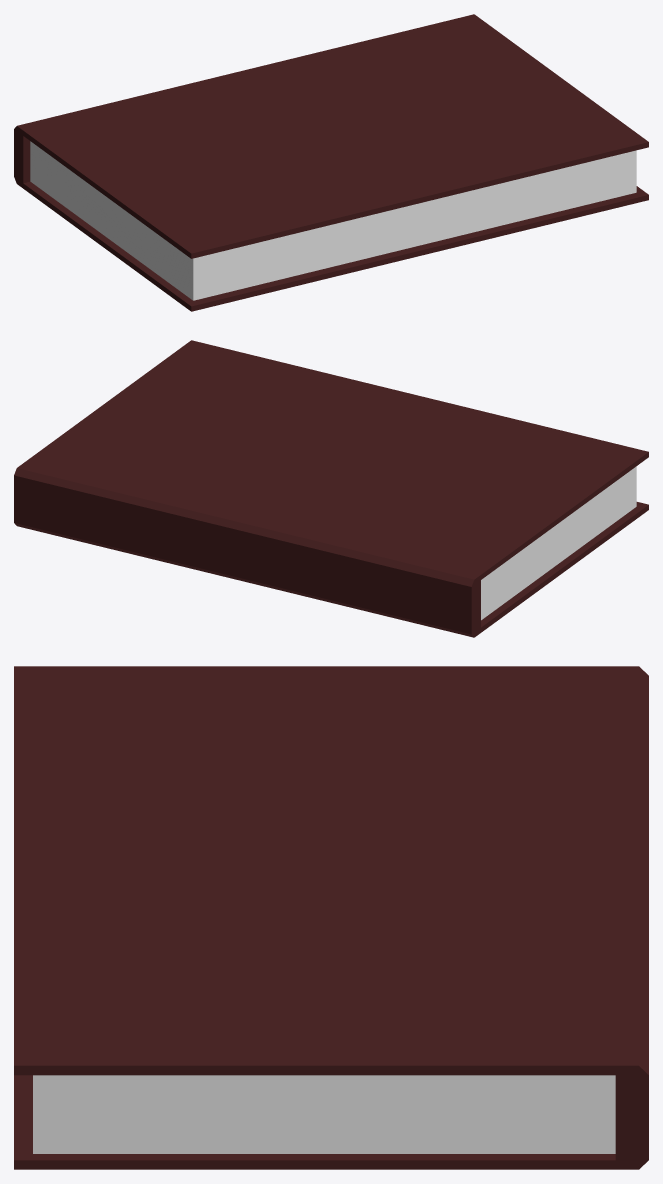
Rendered from book3.fbx.
The picture shows the model from 3 angles, top to bottom: view 1: azimuth 30°, elevation 25°; view 2: azimuth 150°, elevation 25°; view 3: azimuth 270°, elevation 25°; orthographic projection. The views are drawn at different scales.
Visible parts, largest first — view 1: Cube; view 2: Cube; view 3: Cube.
Boxes of the visible parts, x1=… form: Cube: x1=14, y1=14, x2=648, y2=311; Cube: x1=14, y1=340, x2=648, y2=637; Cube: x1=14, y1=666, x2=648, y2=1169.
Size of the model in its own units: 3.03 by 0.3673 by 2.03.
